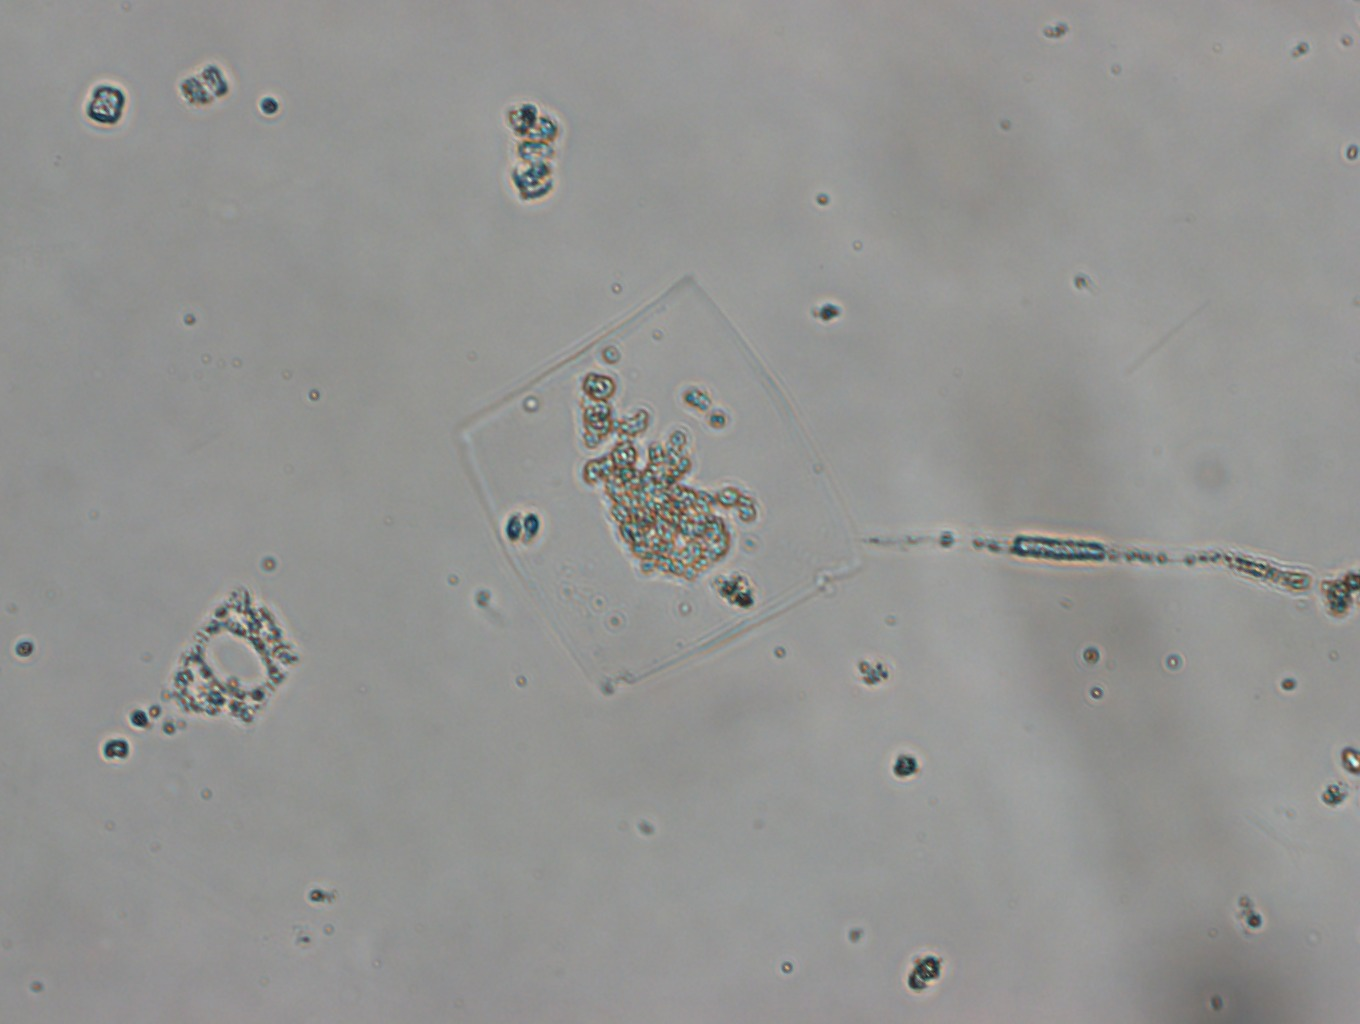eucampia: (167, 581, 298, 725)
helicotheca: (457, 276, 870, 694)
